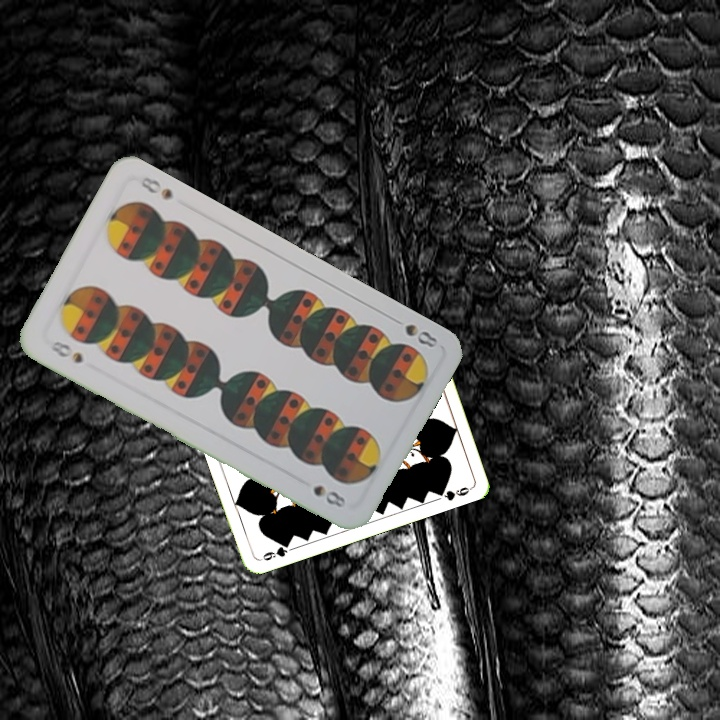G9: (256, 539, 293, 564)
S8: (386, 312, 440, 351), (46, 336, 86, 366)
